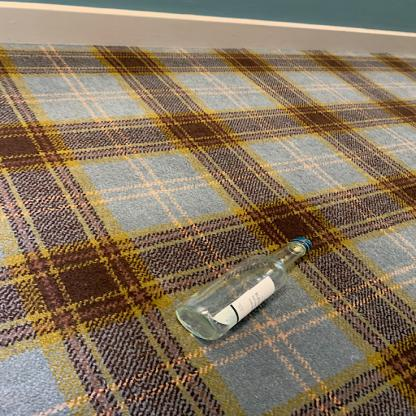trash: (174, 236, 314, 341)
